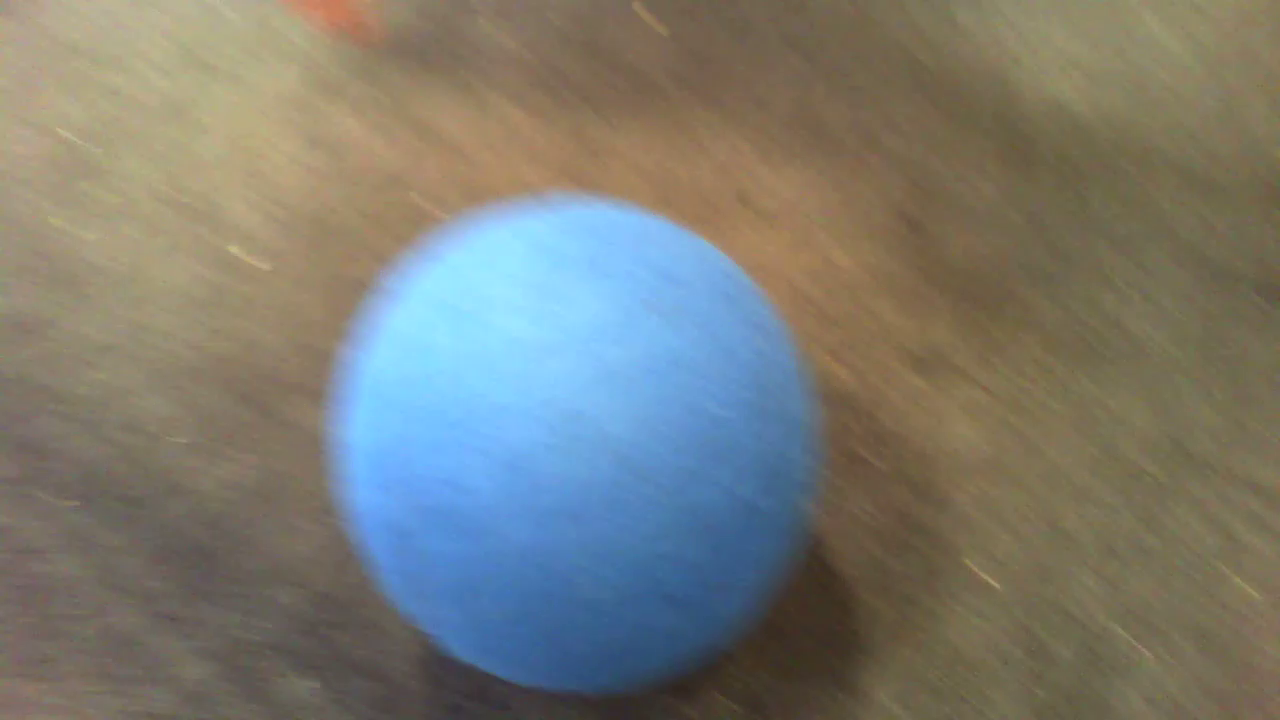blue_cargo: (318, 177, 836, 694)
